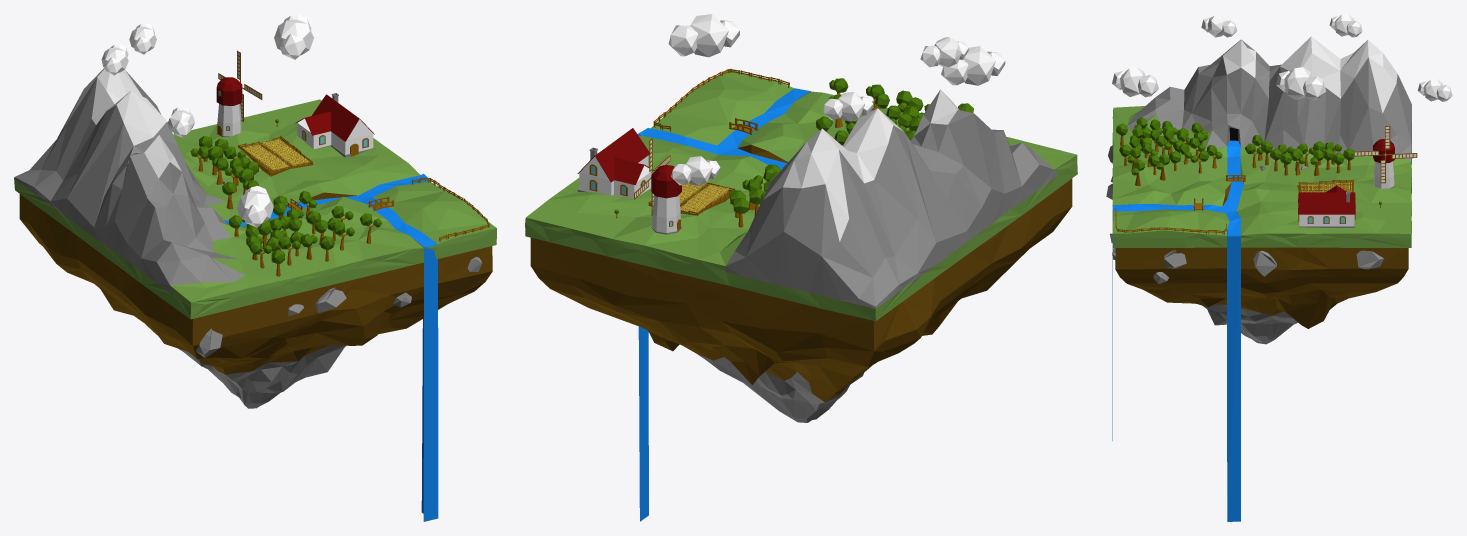
File: island.glb
3 renders of one model, left to right at view 1: azimuth 30°, elevation 25°; view 2: azimuth 150°, elevation 25°; view 3: azimuth 270°, elevation 25°, orthographic. The views are drawn at different scales.
Parts seen in each view (by area): view 1: Plane, Cube.2591, Cylinder, Cloud.004, Cloud.003, Cloud.002, Cloud, Cloud.001; view 2: Plane, Cube.2591, Cloud.004, Cylinder, Cloud.003, Cloud.002, Cloud, Cloud.001; view 3: Plane, Cube.2591, Cloud.004, Cloud.003, Cylinder, Cube.004, Cloud.001, Cloud, Cloud.002.
Boxes of the visible parts, box(x1,y1,x2,y2) form: Plane: box(14, 68, 496, 521); Cube.2591: box(295, 93, 374, 157); Cylinder: box(216, 77, 242, 137); Cloud.004: box(274, 14, 313, 59); Cloud.003: box(237, 185, 273, 227); Cloud.002: box(101, 44, 128, 75); Cloud: box(129, 23, 156, 54); Cloud.001: box(167, 106, 194, 137); Plane: box(525, 69, 1077, 521); Cube.2591: box(577, 128, 654, 198); Cloud.004: box(668, 14, 739, 57); Cylinder: box(651, 165, 681, 234); Cloud.003: box(941, 46, 1005, 85); Cloud.002: box(823, 92, 873, 121); Cloud: box(671, 156, 720, 185); Cloud.001: box(920, 37, 968, 67); Plane: box(1106, 36, 1411, 521); Cube.2591: box(1298, 185, 1355, 227); Cloud.004: box(1276, 67, 1326, 100); Cloud.003: box(1112, 67, 1158, 97); Cylinder: box(1373, 139, 1394, 188); Cube.004: box(1353, 125, 1417, 183); Cloud.001: box(1201, 14, 1237, 37); Cloud: box(1418, 78, 1452, 101); Cloud.002: box(1329, 14, 1362, 37).
Size of the model in its own units: 2 by 2.99 by 2.26.
